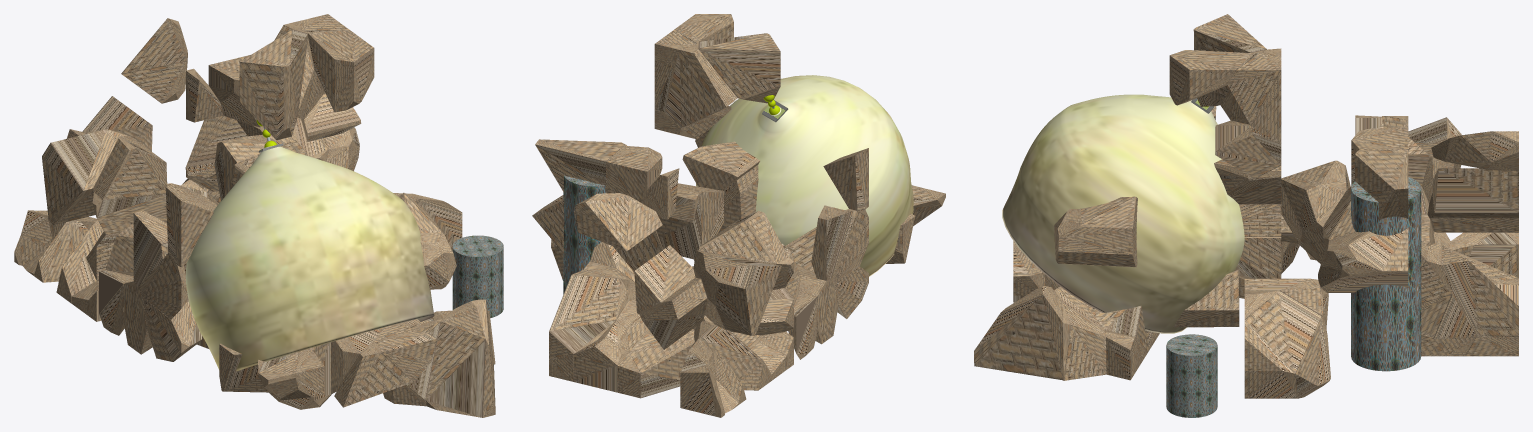
The model's file is Persian_CivilHouse_Semidemolished.fbx.
The picture shows the model from 3 angles, left to right: view 1: azimuth 30°, elevation 25°; view 2: azimuth 150°, elevation 25°; view 3: azimuth 270°, elevation 25°; orthographic projection. The views are drawn at different scales.
Visible parts, largest first — view 1: cupula2.001, Cube.000_cell.457, Cube.000_cell.478, Cube.000_cell.420, Cube.000_cell.491, Cylinder.003, Cube.000_cell.412, Cube.000_cell.497, Cube.000_cell.434, Cube.000_cell.454, Cube.000_cell.450, Cube.000_cell.505 (+31 smaller); view 2: cupula2.001, Cube.000_cell.420, Cube.000_cell.467, Cube.000_cell.478, Cube.000_cell.409, Cube.000_cell.412, Cube.000_cell.413, Cube.000_cell.503, Cube.000_cell.425, Cube.000_cell.497, Cube.000_cell.436, Cube.000_cell.414 (+34 smaller); view 3: cupula2.001, Cylinder.005, Cube.000_cell.495, Cube.000_cell.457, Cube.000_cell.442, Cube.000_cell.489, Cube.000_cell.413, Cylinder.003, Cube.000_cell.467, Cube.000_cell.406, Cube.000_cell.425, Cube.000_cell.491 (+26 smaller).
Boxes of the visible parts, x1,y1,x2,y2 form: cupula2.001: (185, 120, 434, 371); Cube.000_cell.457: (426, 299, 495, 417); Cube.000_cell.478: (239, 29, 307, 139); Cube.000_cell.420: (42, 129, 127, 224); Cube.000_cell.491: (308, 30, 374, 112); Cylinder.003: (452, 235, 503, 317); Cube.000_cell.412: (121, 18, 187, 103); Cube.000_cell.497: (93, 136, 167, 200); Cube.000_cell.434: (334, 345, 413, 407); Cube.000_cell.454: (165, 187, 213, 267); Cube.000_cell.450: (142, 297, 202, 361); Cube.000_cell.505: (185, 115, 247, 191); cupula2.001: (696, 75, 913, 276); Cube.000_cell.420: (693, 250, 781, 335); Cube.000_cell.467: (549, 270, 627, 358); Cube.000_cell.478: (696, 33, 780, 103); Cube.000_cell.409: (665, 45, 737, 127); Cube.000_cell.412: (573, 193, 662, 251); Cube.000_cell.413: (656, 183, 723, 259); Cube.000_cell.503: (617, 336, 694, 398); Cube.000_cell.425: (535, 139, 627, 192); Cube.000_cell.497: (698, 211, 788, 264); Cube.000_cell.436: (640, 277, 707, 349); Cube.000_cell.414: (682, 141, 759, 190); cupula2.001: (1002, 94, 1244, 333); Cylinder.005: (1351, 177, 1421, 371); Cube.000_cell.495: (1244, 290, 1330, 398); Cube.000_cell.457: (974, 286, 1062, 380); Cube.000_cell.442: (1054, 196, 1137, 267); Cube.000_cell.489: (1318, 228, 1408, 292); Cube.000_cell.413: (1281, 160, 1350, 263); Cylinder.003: (1166, 334, 1217, 417); Cube.000_cell.467: (1442, 245, 1518, 337); Cube.000_cell.406: (1432, 168, 1518, 213); Cube.000_cell.425: (1355, 149, 1408, 219); Cube.000_cell.491: (1169, 50, 1253, 105).
Size of the model in its own units: 482 by 425 by 700.
